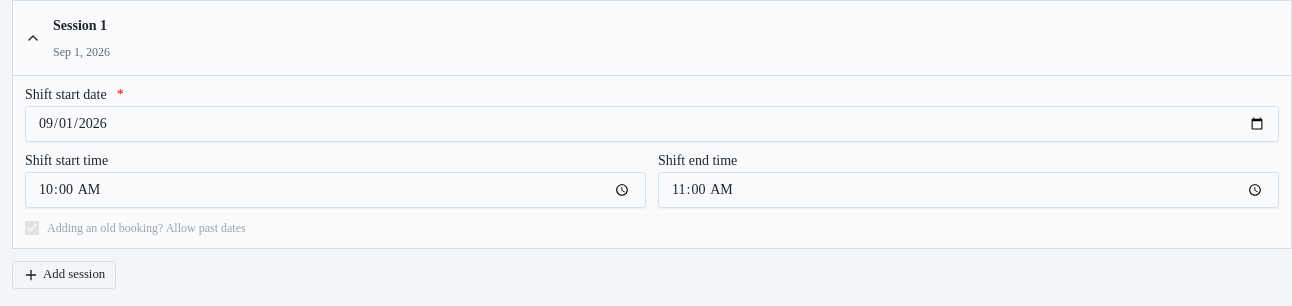
Test: SessionsLocationStep end follows start › snaps end to start + 1h on blur when end is at or before start
Replace the text in the time field labelled "Shift end time" with "09:00" at (968, 190), box [658,172,1279,208]
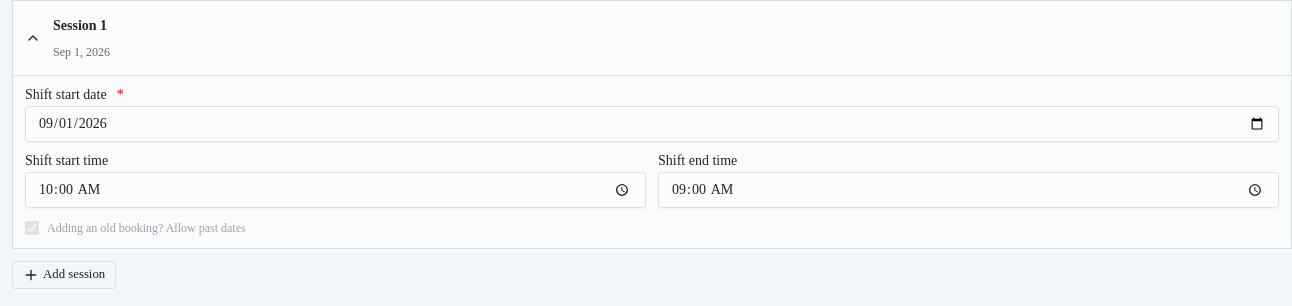
Leave the time field labelled "Shift end time", box [658,172,1279,208]
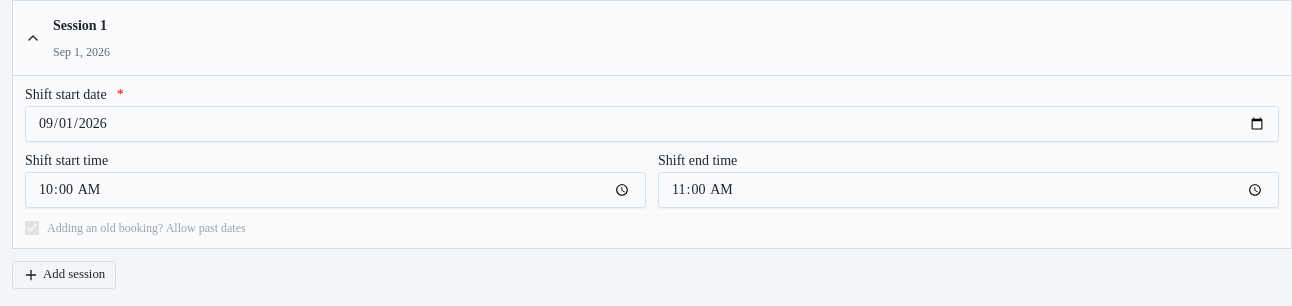
Expected: the time field labelled "Shift end time" holds "11:00", [658,172,1279,208]
